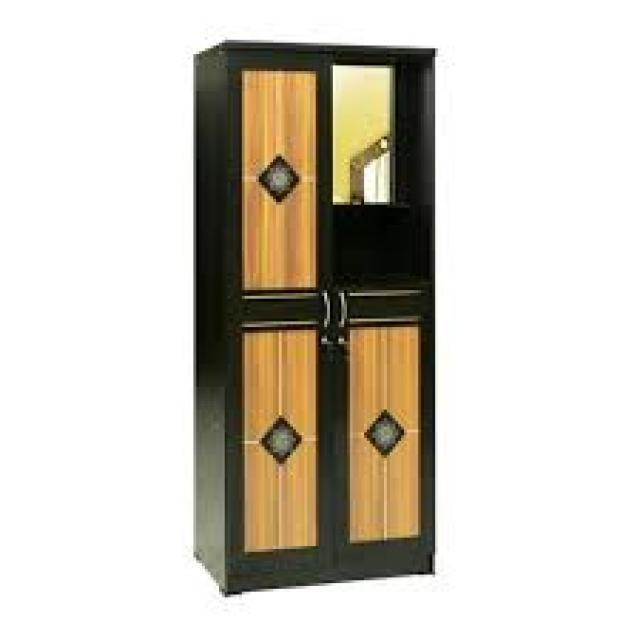Lemari: (220, 39, 436, 596)
